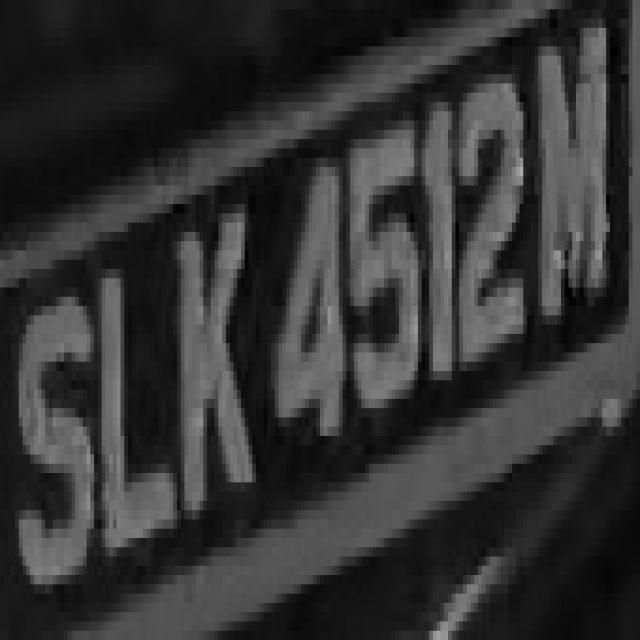1: (422, 65, 459, 445)
2: (455, 46, 531, 399)
4: (271, 158, 346, 464)
5: (339, 130, 425, 445)
K: (170, 213, 252, 510)
L: (105, 260, 181, 566)
M: (523, 9, 621, 325)
S: (11, 278, 106, 575)
